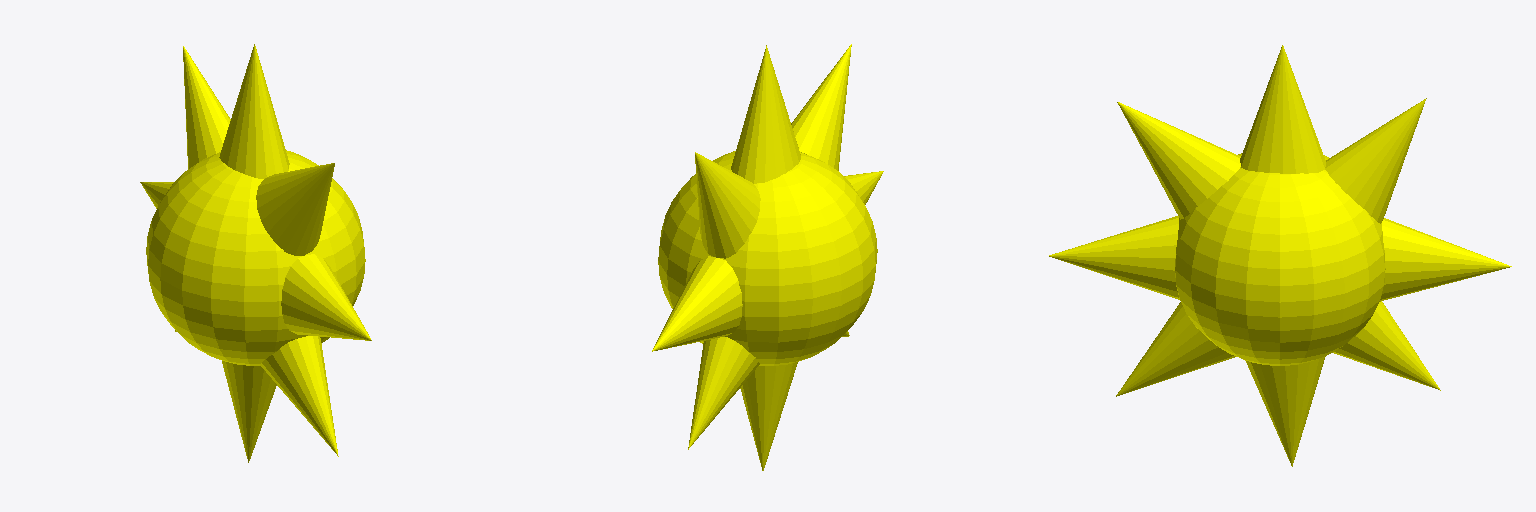
3 renders of one model, left to right at view 1: azimuth 30°, elevation 25°; view 2: azimuth 150°, elevation 25°; view 3: azimuth 270°, elevation 25°, orthographic.
Visible parts, largest first — view 1: pCone2; view 2: pCone2; view 3: pCone2.
Boxes of the visible parts, <box> form: pCone2: <box>140,44,371,462</box>; pCone2: <box>652,44,883,470</box>; pCone2: <box>1049,45,1511,466</box>.
Size of the model in its own units: 3.18 by 6.73 by 6.7.
Materials: 1 (1 with a texture image).